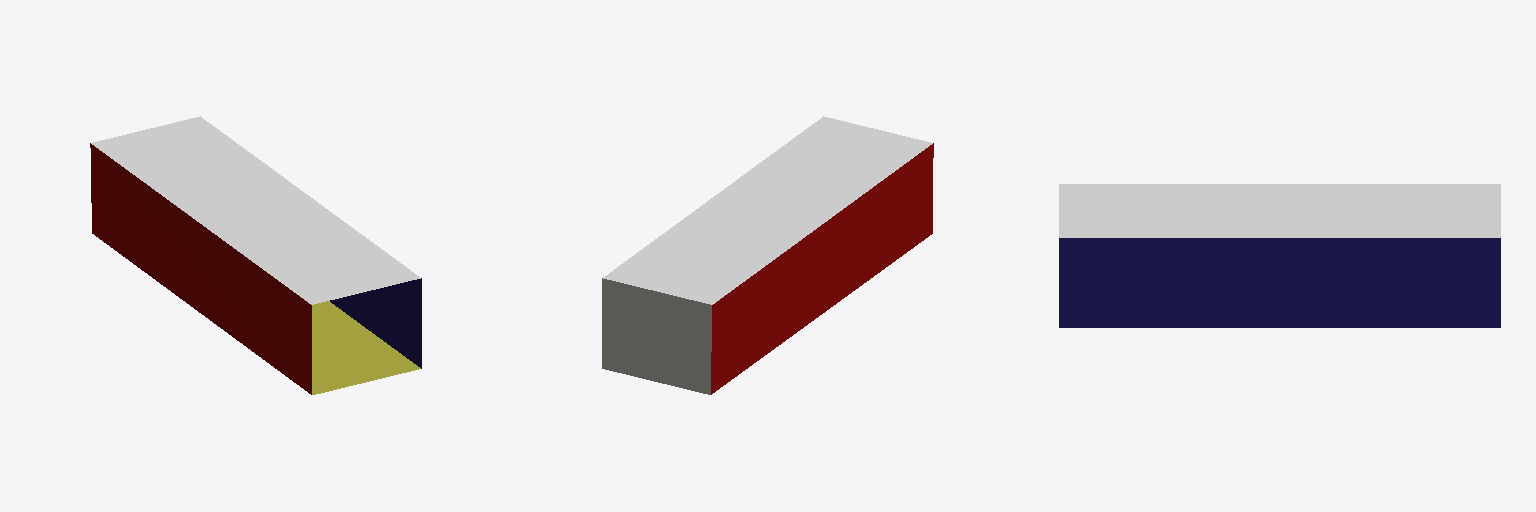
The picture shows the model from 3 angles: view 1: azimuth 30°, elevation 25°; view 2: azimuth 150°, elevation 25°; view 3: azimuth 270°, elevation 25°; orthographic projection.
Parts seen in each view (by area): view 1: ceiling, leftWall, floor, rightWall; view 2: ceiling, leftWall, backWall; view 3: rightWall, ceiling.
Boxes of the visible parts, box(x1,y1,x2,y2) form: ceiling: box(91, 116, 420, 304); leftWall: box(90, 143, 311, 394); floor: box(312, 301, 420, 394); rightWall: box(330, 278, 421, 368); ceiling: box(603, 116, 932, 304); leftWall: box(711, 143, 933, 394); backWall: box(602, 278, 711, 394); rightWall: box(1059, 238, 1500, 327); ceiling: box(1059, 184, 1500, 237).
Bounding box in the file's own units: 2.02 × 1.59 × 7.04.